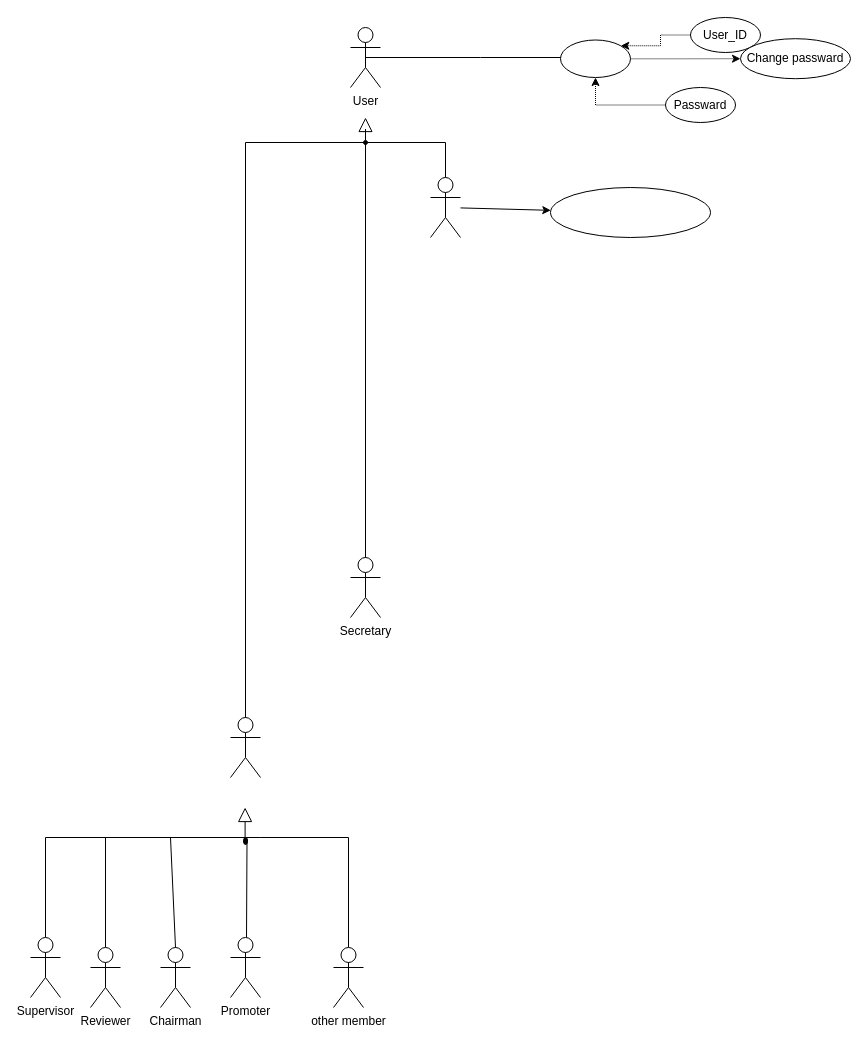
Some shapes in this 868 by 1046 pixel diagram are drawn without their labels. Each missing label, with the centre of its shape:
Admin: (445,207)
Commision member: (245,747)
Login: (595,58)
